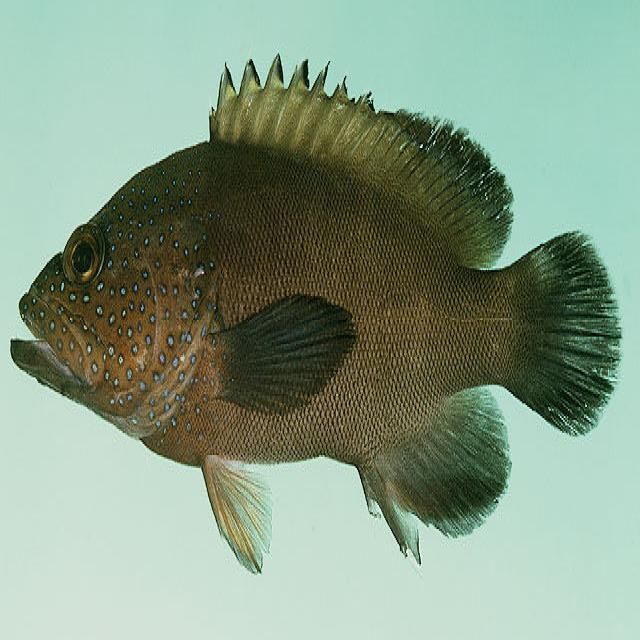ikan: (9, 50, 622, 575)
